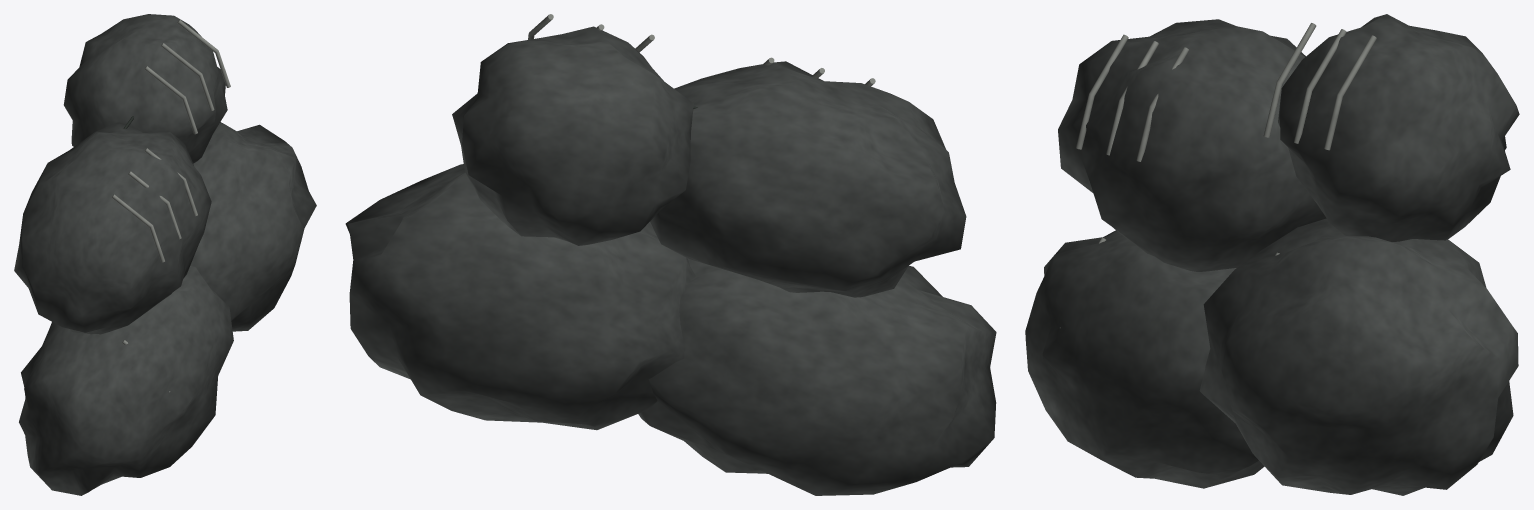
3 renders of one model, left to right at view 1: azimuth 30°, elevation 25°; view 2: azimuth 150°, elevation 25°; view 3: azimuth 270°, elevation 25°, orthographic. The views are drawn at different scales.
Parts seen in each view (by area): view 1: Irregular split charcoal chunk 0; view 2: Irregular split charcoal chunk 0; view 3: Irregular split charcoal chunk 0.
Boxes of the visible parts, x1,y1,x2,y2 form: Irregular split charcoal chunk 0: (14, 14, 316, 495); Irregular split charcoal chunk 0: (345, 14, 996, 495); Irregular split charcoal chunk 0: (1025, 14, 1519, 495).
Bounding box in the file's own units: 1.14 × 1.1 × 0.9321.
1 material, 1 textured.
